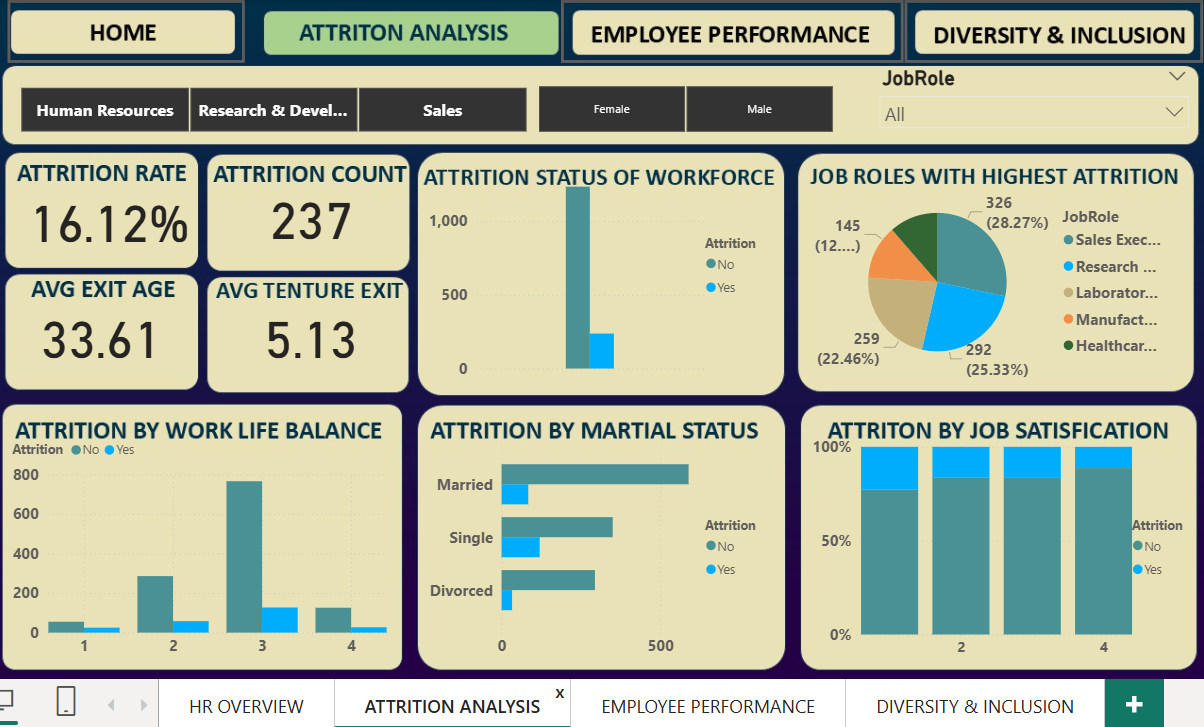

The dashboard page shown, as its layout file describes it:
{"tool":"powerbi","page":{"name":"ATTRITION ANALYSIS","canvas":[1280,720],"ordinal":1},"visuals":[{"type":"card","fields":{"Values":["Measure Table.Attrition Rate"]},"box":[25.4,190.9,186.1,77.9],"z":0},{"type":"clusteredColumnChart","fields":{"Series":["Employee Data.Attrition"],"Y":["CountNonNull(Employee Data.EmployeeNumber)"]},"box":[452.3,156.8,375,250],"z":1000},{"type":"card","fields":{"Values":["Measure Table.Average Exit Age"]},"box":[25.4,316.5,168.6,73.2],"z":2000},{"type":"slicer","fields":{"Values":["Employee Data.Department"]},"box":[0,85.9,585.3,60.4],"z":3000},{"type":"slicer","fields":{"Values":["Employee Data.Gender"]},"box":[548.8,84.3,361.1,62],"z":4000},{"type":"slicer","fields":{"Values":["Employee Data.JobRole"]},"box":[925,65.9,347.7,81.8],"z":5000},{"type":"clusteredBarChart","fields":{"Category":["Employee Data.MaritalStatus"],"Series":["Employee Data.Attrition"],"Y":["CountNonNull(Employee Data.EmployeeNumber)"]},"box":[452.3,456.8,375,250],"z":6000},{"type":"pieChart","fields":{"Category":["Employee Data.JobRole"],"Y":["CountNonNull(Employee Data.Attrition)"]},"box":[859.1,190.9,390.9,215.9],"z":7000},{"type":"hundredPercentStackedColumnChart","fields":{"Series":["Employee Data.Attrition"],"Category":["Employee Data.JobSatisfaction"],"Y":["CountNonNull(Employee Data.EmployeeNumber)"]},"box":[859.1,456.8,420.5,250],"z":8000},{"type":"clusteredColumnChart","fields":{"Category":["Employee Data.WorkLifeBalance"],"Series":["Employee Data.Attrition"],"Y":["CountNonNull(Employee Data.EmployeeNumber)"]},"box":[11.4,456.8,406.8,250],"z":9000},{"type":"card","fields":{"Values":["Measure Table.Total Attrition"]},"box":[245,184.5,175,84.3],"z":10000},{"type":"card","fields":{"Values":["Measure Table.AvgTenureExited"]},"box":[252.9,316.5,157.5,73.2],"z":11000},{"type":"actionButton","box":[11.7,0,251.7,66.7],"z":12000},{"type":"actionButton","box":[598.3,0,363.3,66.7],"z":13000},{"type":"actionButton","box":[961.7,0,316.7,66.7],"z":14000}]}

Visuals, with their boxes on the page's 1280x720 design canvas (x1, y1, x2, y2). These are canvas units, not pixel positions in the 1204x727 screenshot, which may show the page scaled, cropped or inside an application window:
card - Measure Table.Attrition Rate: pyautogui.locateOnScreen(25, 191, 212, 269)
clusteredColumnChart - Employee Data.Attrition x CountNonNull(Employee Data.EmployeeNumber): pyautogui.locateOnScreen(452, 157, 827, 407)
card - Measure Table.Average Exit Age: pyautogui.locateOnScreen(25, 316, 194, 390)
slicer - Employee Data.Department: pyautogui.locateOnScreen(0, 86, 585, 146)
slicer - Employee Data.Gender: pyautogui.locateOnScreen(549, 84, 910, 146)
slicer - Employee Data.JobRole: pyautogui.locateOnScreen(925, 66, 1273, 148)
clusteredBarChart - Employee Data.MaritalStatus x Employee Data.Attrition: pyautogui.locateOnScreen(452, 457, 827, 707)
pieChart - Employee Data.JobRole x CountNonNull(Employee Data.Attrition): pyautogui.locateOnScreen(859, 191, 1250, 407)
hundredPercentStackedColumnChart - Employee Data.Attrition x Employee Data.JobSatisfaction: pyautogui.locateOnScreen(859, 457, 1280, 707)
clusteredColumnChart - Employee Data.WorkLifeBalance x Employee Data.Attrition: pyautogui.locateOnScreen(11, 457, 418, 707)
card - Measure Table.Total Attrition: pyautogui.locateOnScreen(245, 184, 420, 269)
card - Measure Table.AvgTenureExited: pyautogui.locateOnScreen(253, 316, 410, 390)
actionButton: pyautogui.locateOnScreen(12, 0, 263, 67)
actionButton: pyautogui.locateOnScreen(598, 0, 962, 67)
actionButton: pyautogui.locateOnScreen(962, 0, 1278, 67)
